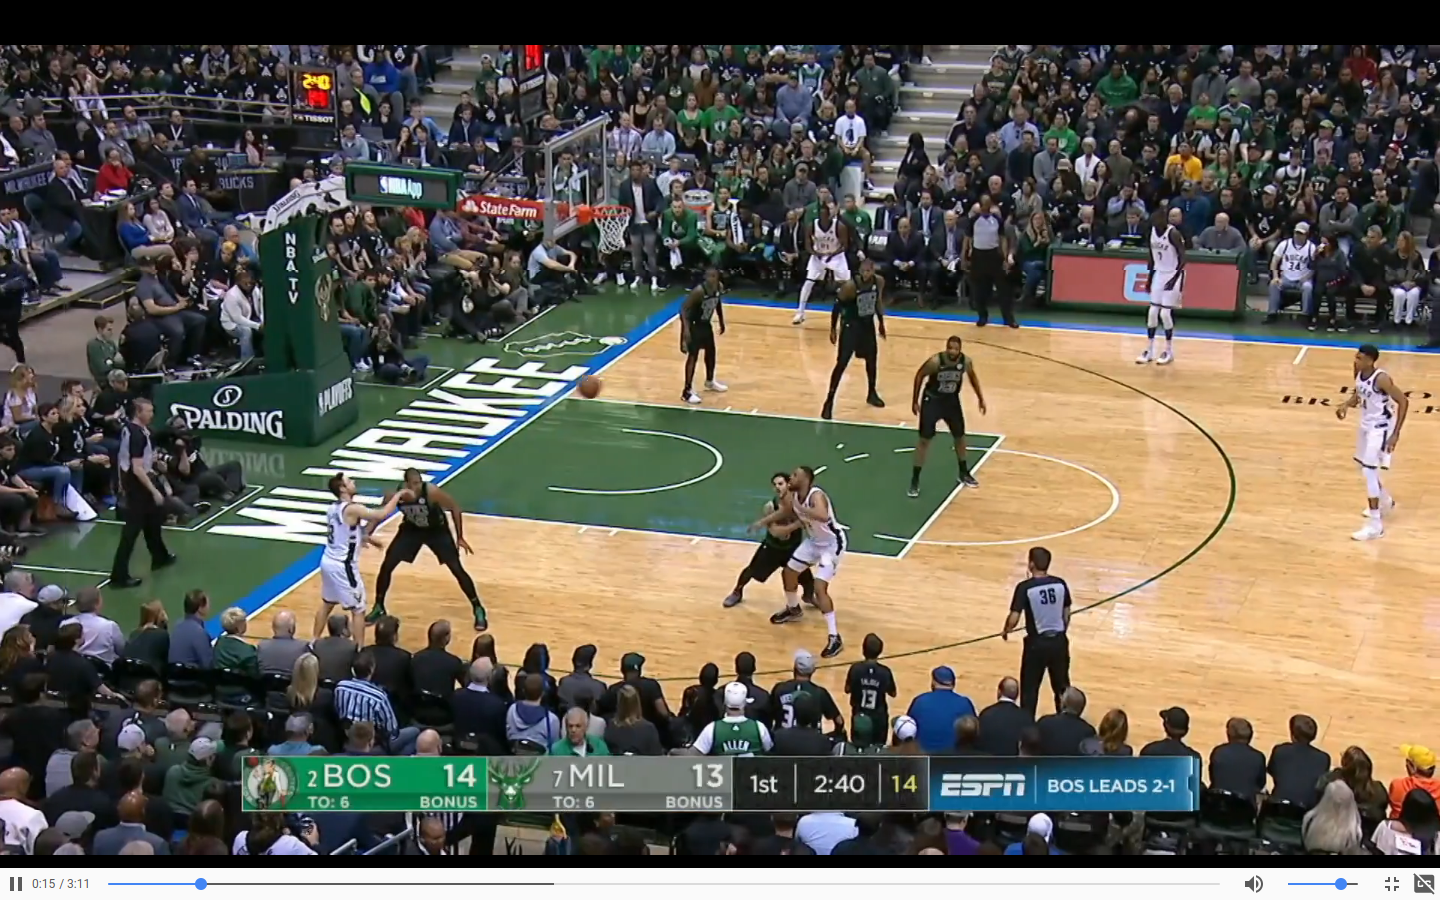basketball: (578, 369, 602, 400)
basketball player: (362, 459, 495, 637), (1333, 339, 1416, 545), (298, 465, 388, 643), (904, 329, 990, 500), (781, 459, 856, 646), (822, 256, 896, 423), (724, 465, 798, 614), (1133, 196, 1192, 380), (673, 260, 733, 408), (798, 194, 853, 328)
referee: (998, 540, 1076, 716), (108, 391, 175, 591), (948, 194, 1021, 329)
